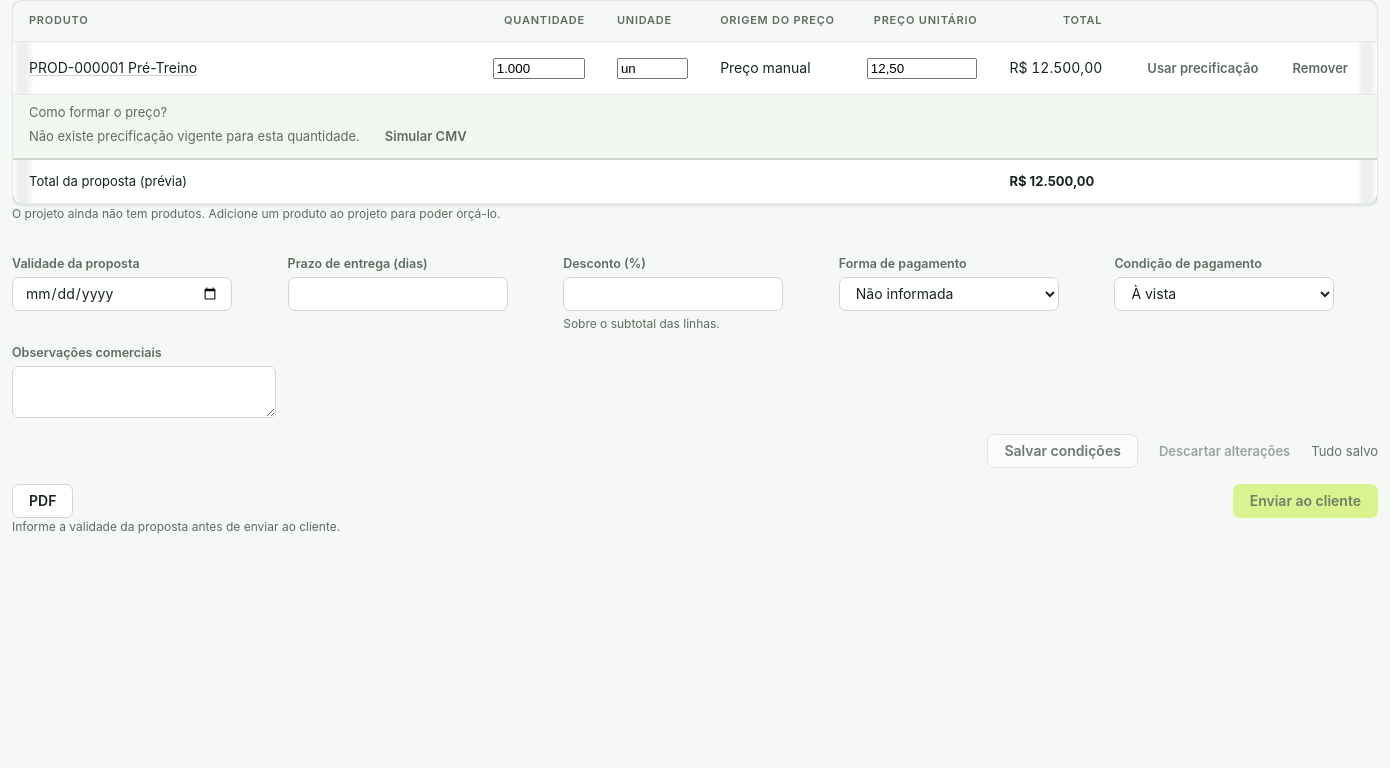
Test: #8H — orçamento em edição mostra o total do que está na tela › A. mudar a quantidade muda o subtotal da linha na hora
The image size is (1390, 768).
Replace the text in the field named "Quantidade de PROD-000001" with "2000" at (539, 68), box [493, 58, 585, 79]
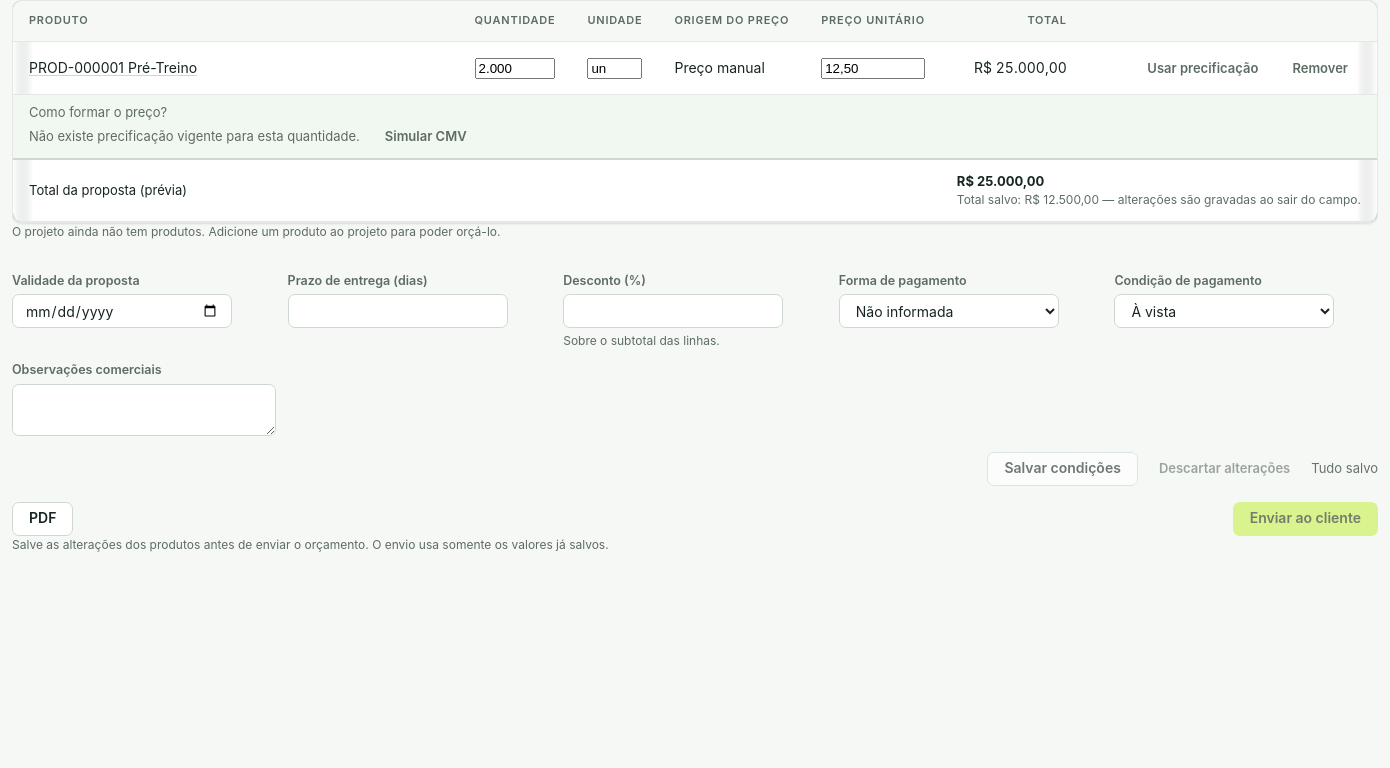
Now the cell "R$ 25.000,00" is shown, box [941, 41, 1083, 95]
